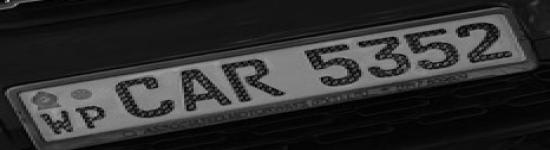2: (462, 22, 514, 64)
3: (362, 36, 409, 79)
5: (306, 41, 360, 86), (406, 30, 460, 68)
A: (181, 69, 231, 111)
C: (115, 77, 174, 117)
P: (79, 109, 108, 126)
R: (226, 60, 288, 102)
W: (40, 113, 74, 133)
